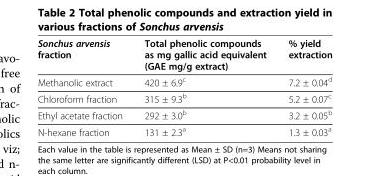table: (36, 37, 331, 137)
table column: (132, 37, 276, 137), (36, 37, 132, 137), (276, 37, 331, 137)
table column header: (36, 37, 331, 73)
table row: (36, 37, 331, 73), (36, 89, 331, 106), (36, 73, 331, 89), (36, 106, 331, 122), (36, 122, 331, 137)
